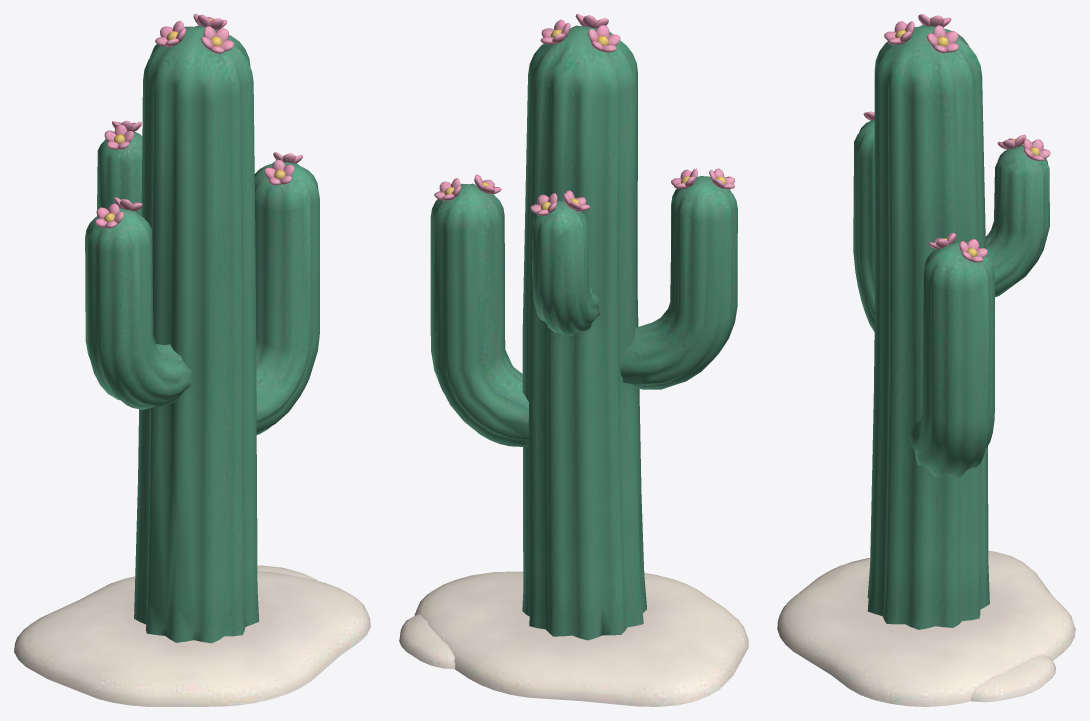
Rendered from cactus.glb.
The picture shows the model from 3 angles, left to right: view 1: azimuth 30°, elevation 25°; view 2: azimuth 150°, elevation 25°; view 3: azimuth 270°, elevation 25°; orthographic projection.
Visible parts, largest first — view 1: cactus_body; view 2: cactus_body; view 3: cactus_body.
Boxes of the visible parts, bbox=[...] form: cactus_body: bbox=[14, 14, 370, 706]; cactus_body: bbox=[399, 14, 748, 706]; cactus_body: bbox=[777, 14, 1075, 706].
Size of the model in its own units: 1.8 by 3.41 by 1.51.
1 material, 1 textured.
